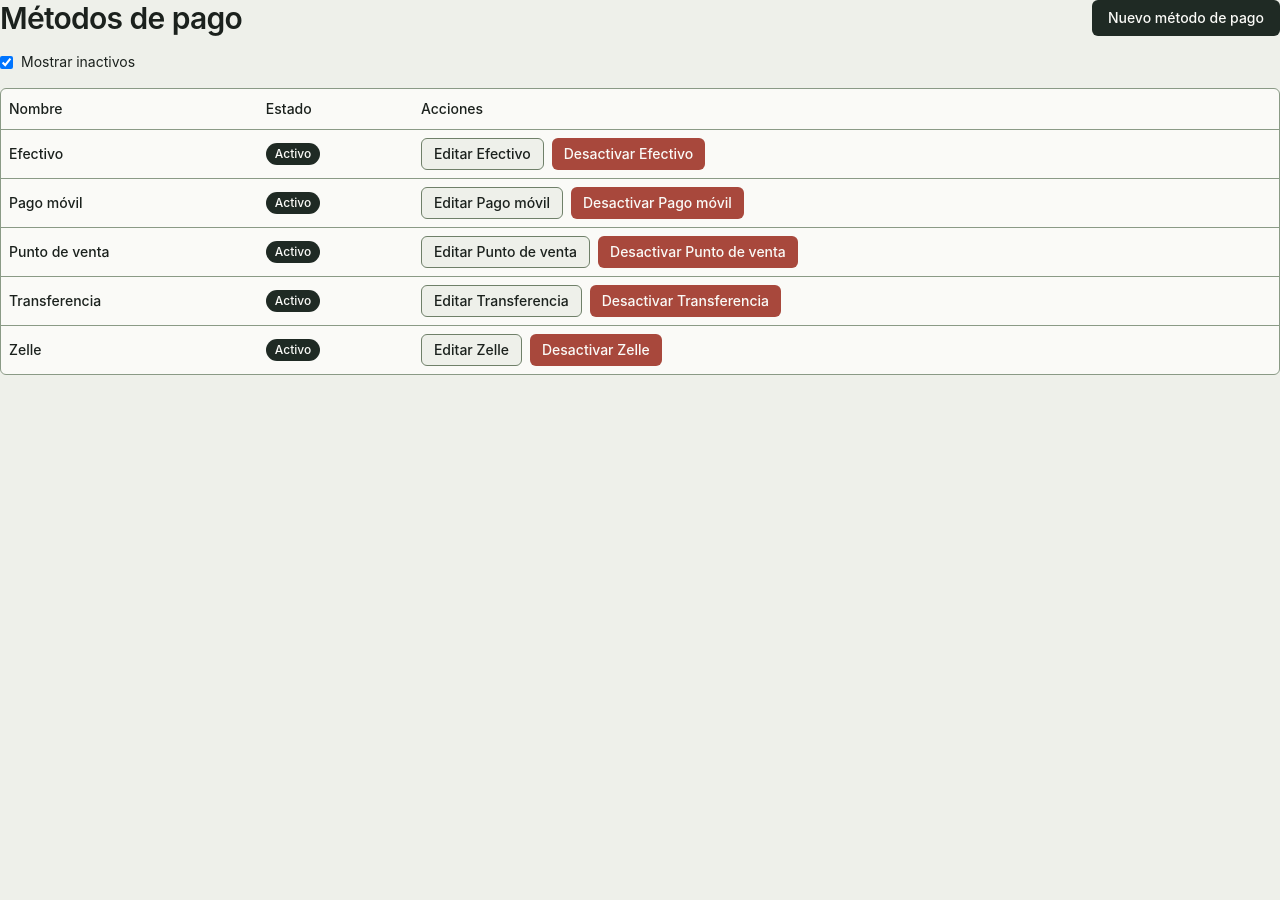
PaymentMethodsPage › crea un método de pago válido desde el formulario
Check: the row "Efectivo Activo Editar Efectivo Desactivar Efectivo" is shown, box left=1, top=130, right=1279, bottom=178
Click the button "Nuevo método de pago".
click(1186, 18)  # box left=1092, top=0, right=1279, bottom=36
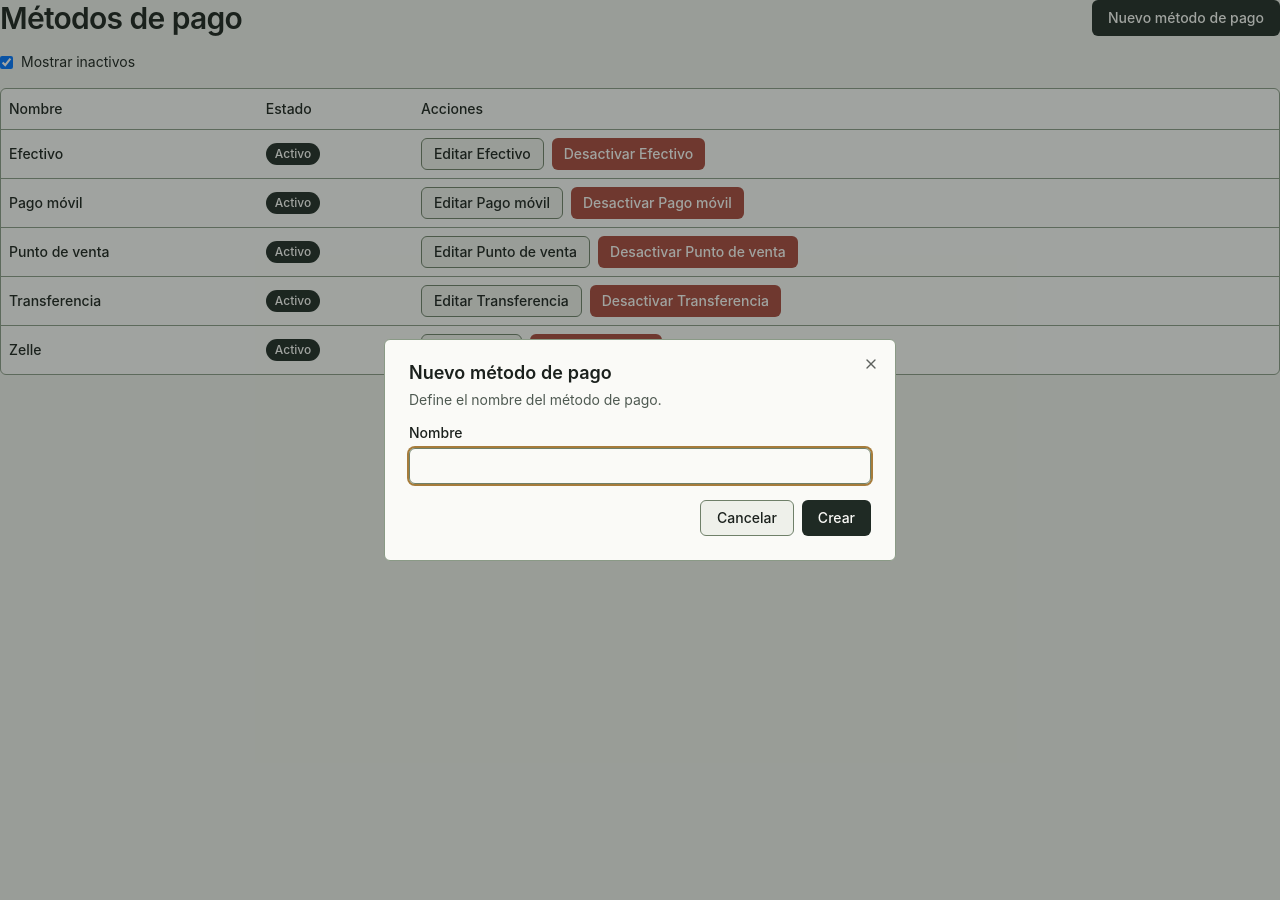
Type "Cripto" into the field labelled "Nombre".
click(640, 466); type("Cripto")  # box left=409, top=448, right=871, bottom=484
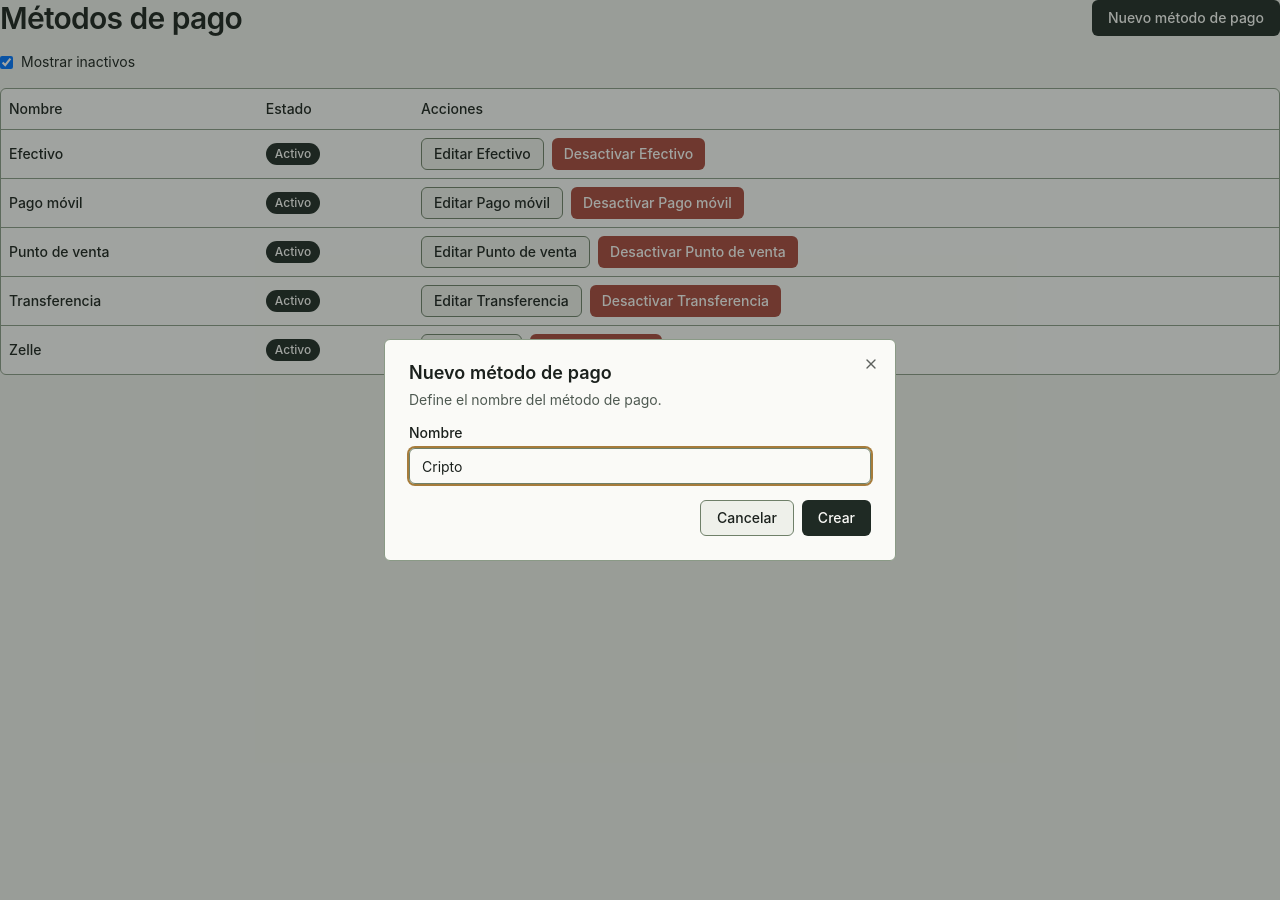
Click the button "Crear".
click(836, 518)  # box left=802, top=500, right=871, bottom=536
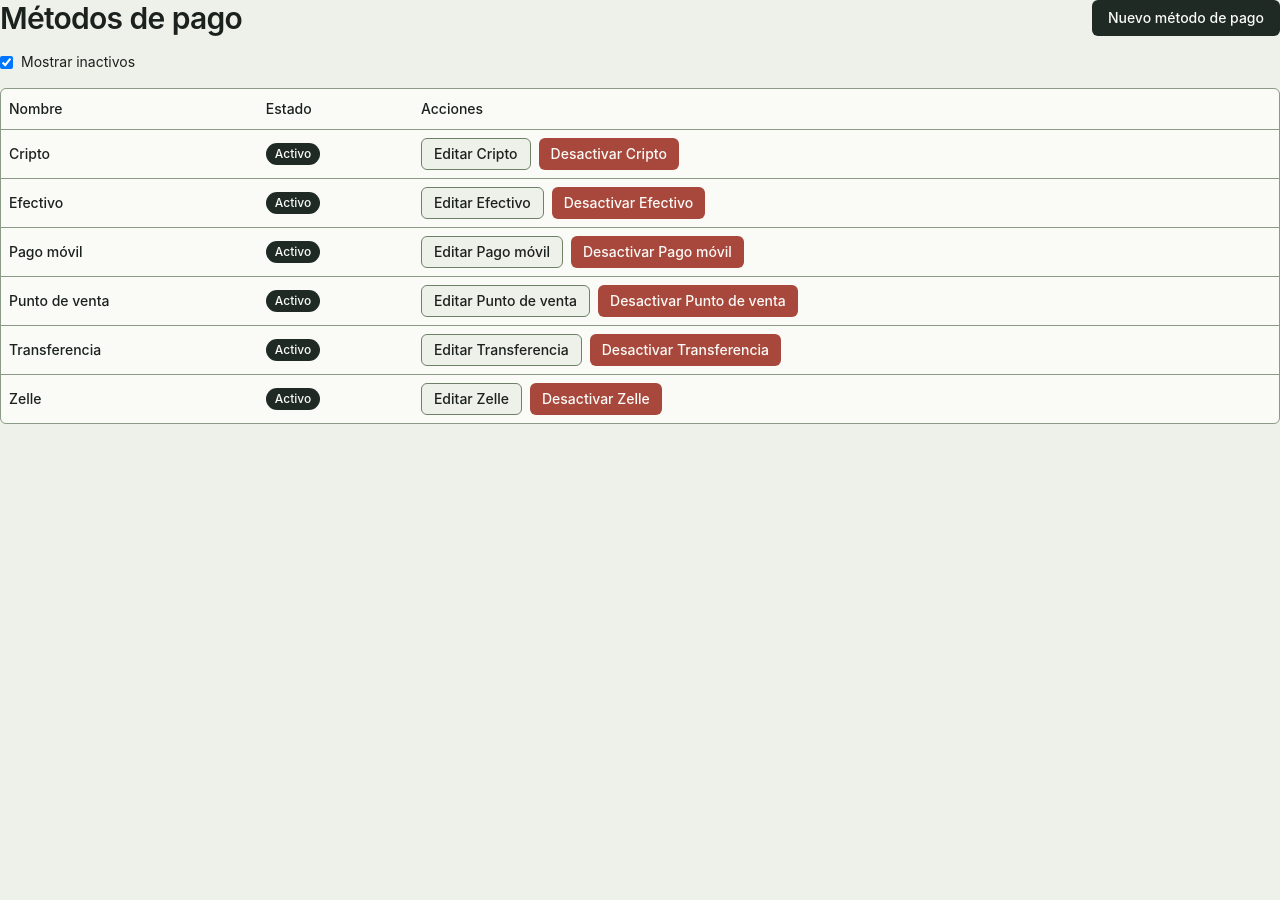
Check: the row "Cripto Activo Editar Cripto Desactivar Cripto" is shown, box left=1, top=130, right=1279, bottom=178
Check: the dialog is gone
